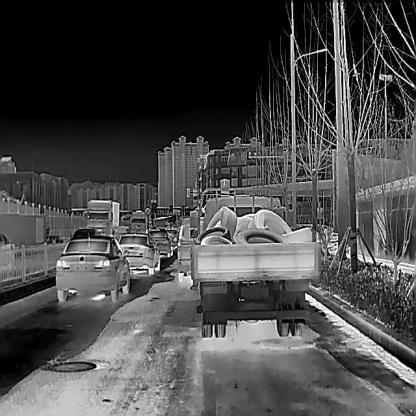car: (187, 184, 323, 337), (54, 236, 131, 302), (176, 214, 211, 282), (116, 233, 162, 276), (81, 197, 122, 237), (148, 226, 172, 258), (0, 229, 18, 271), (66, 225, 97, 242), (129, 208, 149, 233), (164, 227, 179, 250)
